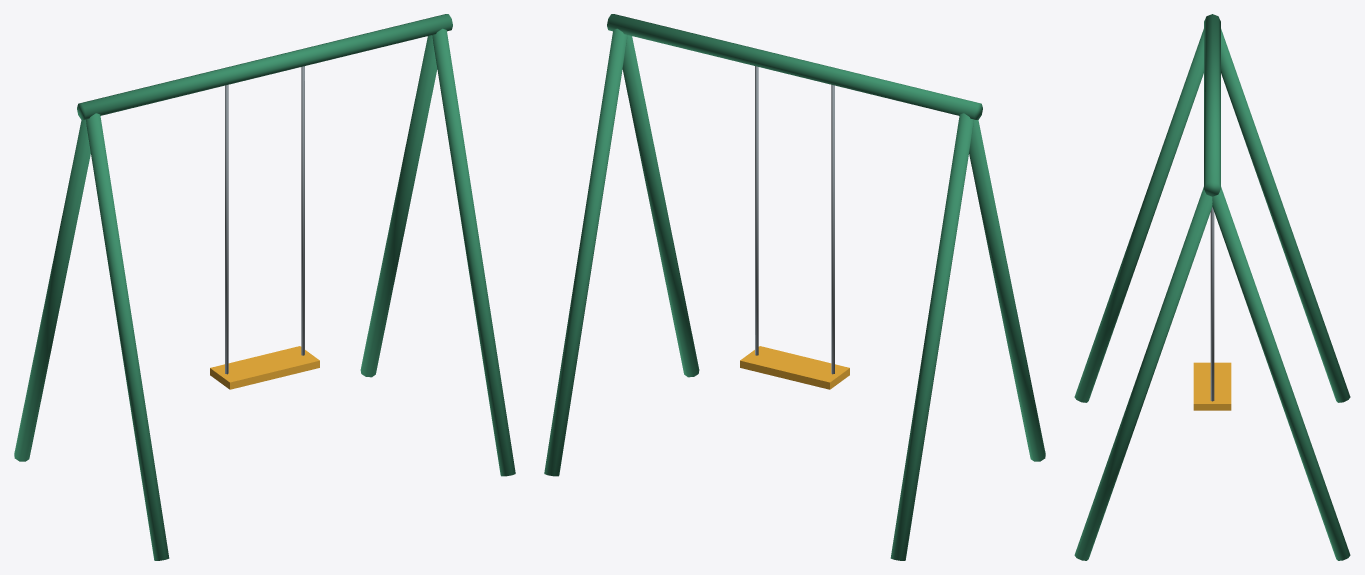
Rendered from swing-set.glb.
The picture shows the model from 3 angles, left to right: view 1: azimuth 30°, elevation 25°; view 2: azimuth 150°, elevation 25°; view 3: azimuth 270°, elevation 25°; orthographic projection. The views are drawn at different scales.
Visible parts, largest first — view 1: swing-leg-l-front, swing-leg-r-front, swing-bar, swing-leg-l-back, swing-leg-r-back, swing-seat, swing-chain-r, swing-chain-l; view 2: swing-leg-l-back, swing-leg-r-back, swing-bar, swing-leg-l-front, swing-leg-r-front, swing-seat, swing-chain-r, swing-chain-l; view 3: swing-leg-r-back, swing-leg-r-front, swing-leg-l-back, swing-leg-l-front, swing-bar, swing-seat, swing-chain-r.
Boxes of the visible parts, x1,y1,x2,y2 form: swing-leg-l-front: (86, 113, 169, 560); swing-leg-r-front: (432, 28, 515, 476); swing-bar: (77, 14, 452, 119); swing-leg-l-back: (14, 119, 90, 461); swing-leg-r-back: (360, 35, 437, 377); swing-seat: (210, 346, 319, 389); swing-chain-r: (301, 66, 304, 355); swing-chain-l: (225, 84, 228, 374); swing-leg-l-back: (890, 113, 973, 560); swing-leg-r-back: (544, 28, 627, 476); swing-bar: (607, 14, 982, 119); swing-leg-l-front: (969, 119, 1045, 461); swing-leg-r-front: (622, 35, 699, 377); swing-seat: (740, 346, 849, 389); swing-chain-r: (755, 66, 758, 355); swing-chain-l: (831, 84, 834, 374); swing-leg-r-back: (1212, 187, 1350, 560); swing-leg-r-front: (1074, 187, 1212, 560); swing-leg-l-back: (1221, 29, 1350, 402); swing-leg-l-front: (1074, 29, 1203, 402); swing-bar: (1204, 14, 1220, 196); swing-seat: (1193, 362, 1231, 410); swing-chain-r: (1210, 207, 1214, 401).
Bounding box in the file's own units: 2.12 × 2.26 × 1.48.
